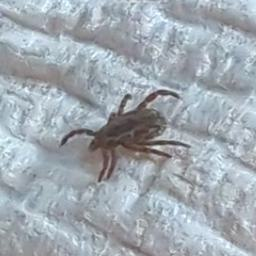Dermacentor variabilis: (59, 88, 190, 184)
